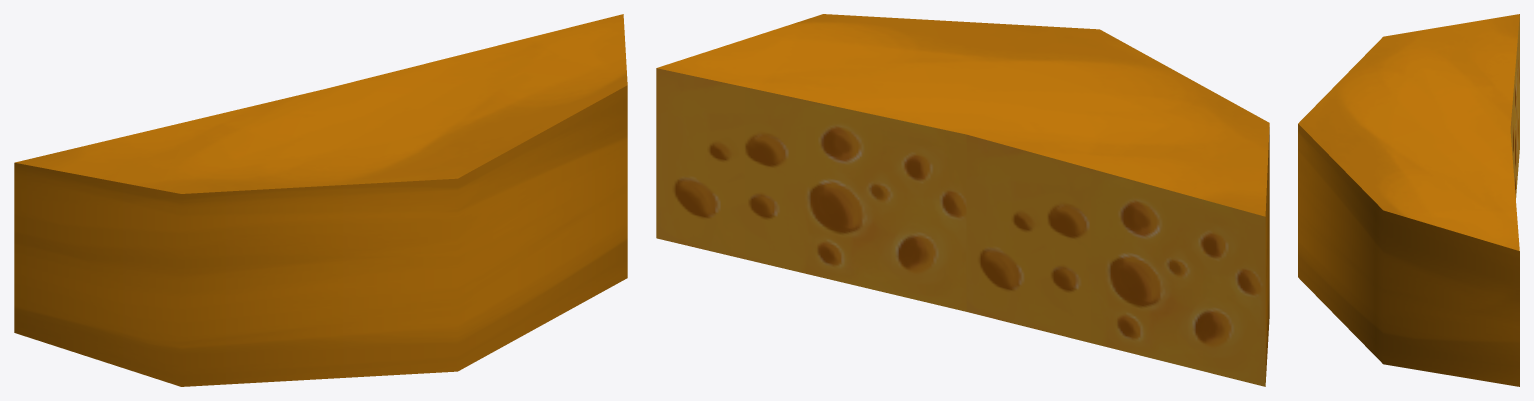
The model's file is SM_PROP_food_cheese_03.FBX.
The picture shows the model from 3 angles, left to right: view 1: azimuth 30°, elevation 25°; view 2: azimuth 150°, elevation 25°; view 3: azimuth 270°, elevation 25°; orthographic projection. The views are drawn at different scales.
Visible parts, largest first — view 1: SM_PROP_food_cheese_03; view 2: SM_PROP_food_cheese_03; view 3: SM_PROP_food_cheese_03.
Part boxes in pixels (x1,y1,x2,y2): SM_PROP_food_cheese_03: [14, 14, 627, 386]; SM_PROP_food_cheese_03: [656, 14, 1269, 386]; SM_PROP_food_cheese_03: [1298, 14, 1519, 386].
Bounding box in the file's own units: 41.62 × 16.44 × 12.6.
